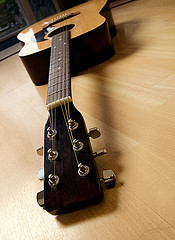guitar: (14, 1, 120, 218)
